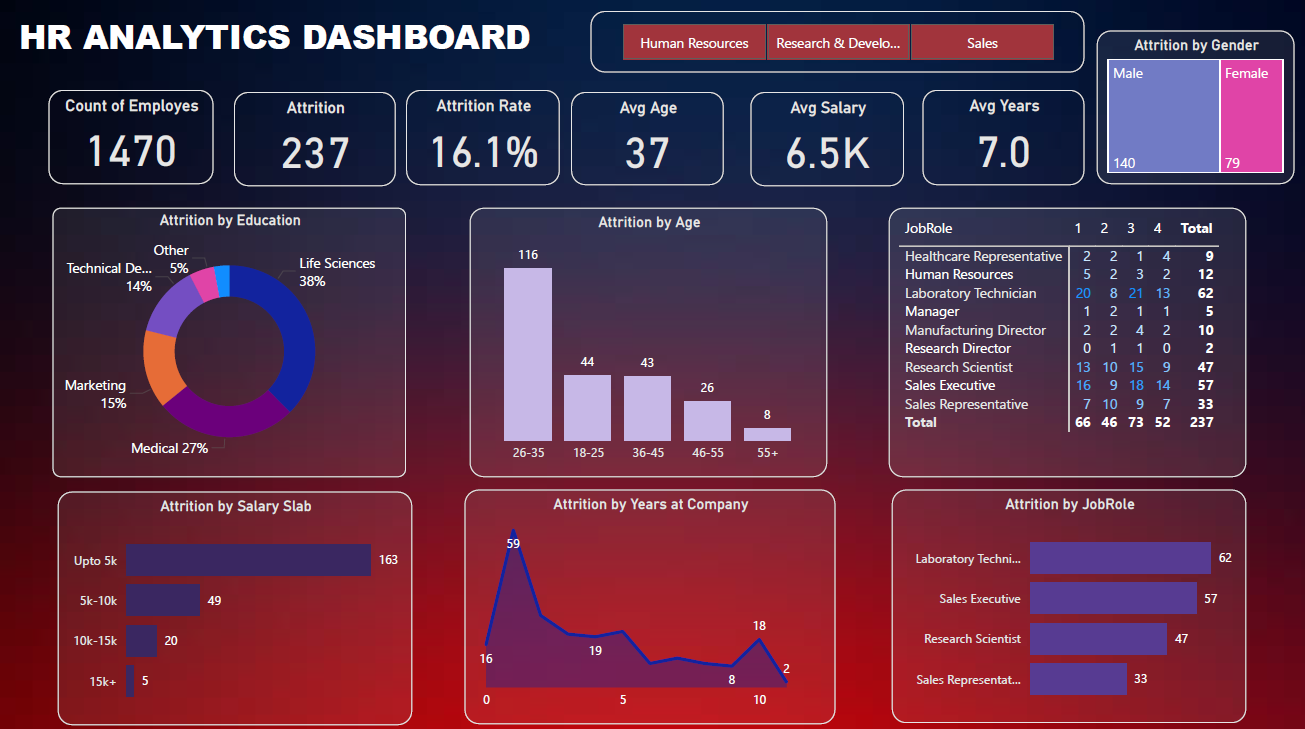

The page's visual inventory and layout, read from the dashboard file:
{"tool":"powerbi","page":{"name":"Page 1","canvas":[1280,720],"ordinal":0},"visuals":[{"type":"card","title":"Count of Employes","fields":{"Values":["CountNonNull(HR_Analytics.EmpID)"]},"box":[49,91.2,161.2,91.2],"z":0},{"type":"card","title":"Attrition","fields":{"Values":["Sum(HR_Analytics.AttritionCount)"]},"box":[230.3,92.5,157.5,92.5],"z":1000},{"type":"card","title":"Attrition Rate","fields":{"Values":["HR_Analytics.AttritionRate"]},"box":[397.8,91.2,150,92.5],"z":2000},{"type":"card","title":"Avg Age","fields":{"Values":["Avg(HR_Analytics.Age)"]},"box":[559,92.5,148.8,91.2],"z":3000},{"type":"card","title":"Avg Salary","fields":{"Values":["Avg(HR_Analytics.MonthlyIncome)"]},"box":[734,92.5,150,92.5],"z":4000},{"type":"card","title":"Avg Years","fields":{"Values":["Avg(HR_Analytics.YearsAtCompany)"]},"box":[901.5,91.2,158.8,92.5],"z":5000},{"type":"donutChart","title":"Attrition by Education","fields":{"Category":["HR_Analytics.EducationField"],"Y":["Sum(HR_Analytics.AttritionCount)"]},"box":[52.8,206.2,345,262.5],"z":6000},{"type":"columnChart","title":"Attrition by Age","fields":{"Category":["HR_Analytics.AgeGroup"],"Y":["Sum(HR_Analytics.AttritionCount)"]},"box":[460.3,206.2,348.8,262.5],"z":7000},{"type":"pivotTable","fields":{"Rows":["HR_Analytics.JobRole"],"Columns":["HR_Analytics.JobSatisfaction"],"Values":["Sum(HR_Analytics.AttritionCount)"]},"box":[869,206.2,348.8,262.5],"z":8000},{"type":"barChart","title":"Attrition by Salary Slab","fields":{"Category":["HR_Analytics.SalarySlab"],"Y":["Sum(HR_Analytics.AttritionCount)"]},"box":[57.8,482.5,346.2,228.8],"z":8001},{"type":"barChart","title":"Attrition by JobRole","fields":{"Y":["Sum(HR_Analytics.AttritionCount)"],"Category":["HR_Analytics.JobRole"]},"box":[871.5,481.2,346.2,227.5],"z":8002},{"type":"areaChart","title":"Attrition by Years at Company","fields":{"Category":["HR_Analytics.YearsAtCompany"],"Y":["Sum(HR_Analytics.AttritionCount)"]},"box":[455.3,481.2,361.2,228.8],"z":8003},{"type":"treemap","title":"Attrition by Gender","fields":{"Group":["HR_Analytics.Gender"],"Values":["Sum(HR_Analytics.AttritionCount)"]},"box":[1071.5,32.5,193.8,150],"z":8004},{"type":"slicer","title":"Department","fields":{"Values":["HR_Analytics.Department"]},"box":[577.8,13.8,482.5,60],"z":8005},{"type":"textbox","box":[15.3,11.2,517.5,62.5],"z":8006}]}

Visuals, with their boxes in screenshot pixels (x1, y1, x2, y2), scaled from the page's 1280x720 canvas onto the 1305x729 screenshot:
"Count of Employes" card: rect(50, 92, 214, 185)
"Attrition" card: rect(235, 94, 395, 187)
"Attrition Rate" card: rect(406, 92, 558, 186)
"Avg Age" card: rect(570, 94, 722, 186)
"Avg Salary" card: rect(748, 94, 901, 187)
"Avg Years" card: rect(919, 92, 1081, 186)
"Attrition by Education" donutChart: rect(54, 209, 406, 475)
"Attrition by Age" columnChart: rect(469, 209, 825, 475)
pivotTable - HR_Analytics.JobRole x HR_Analytics.JobSatisfaction: rect(886, 209, 1242, 475)
"Attrition by Salary Slab" barChart: rect(59, 489, 412, 720)
"Attrition by JobRole" barChart: rect(889, 487, 1241, 718)
"Attrition by Years at Company" areaChart: rect(464, 487, 832, 719)
"Attrition by Gender" treemap: rect(1092, 33, 1290, 185)
"Department" slicer: rect(589, 14, 1081, 75)
textbox: rect(16, 11, 543, 75)
